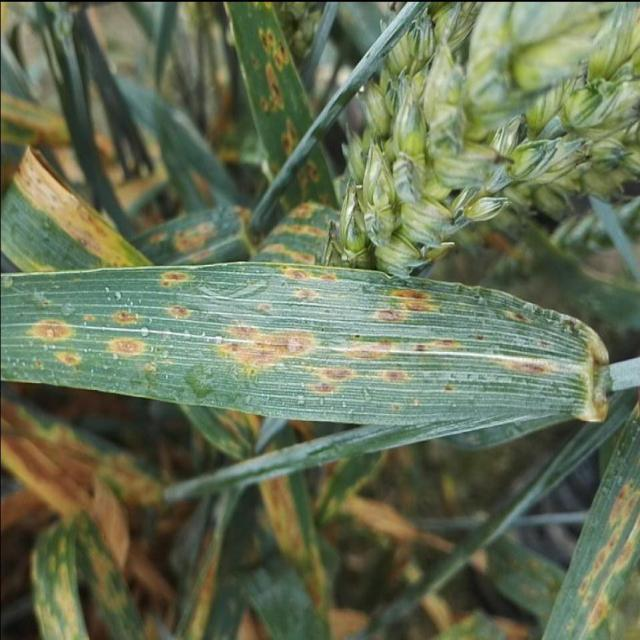wheat-septoria: (1, 150, 610, 429), (542, 394, 640, 640), (227, 5, 317, 174)
